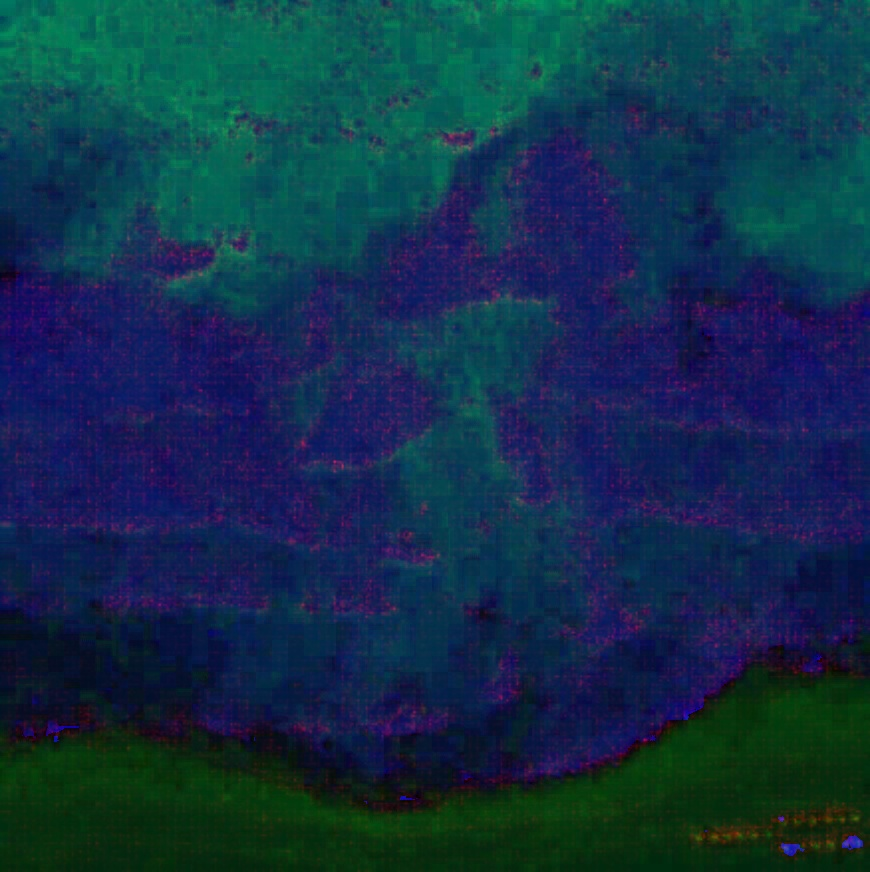rip_current: (341, 105, 601, 742)
